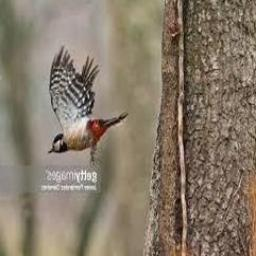Woodpecker: (48, 45, 129, 163)
